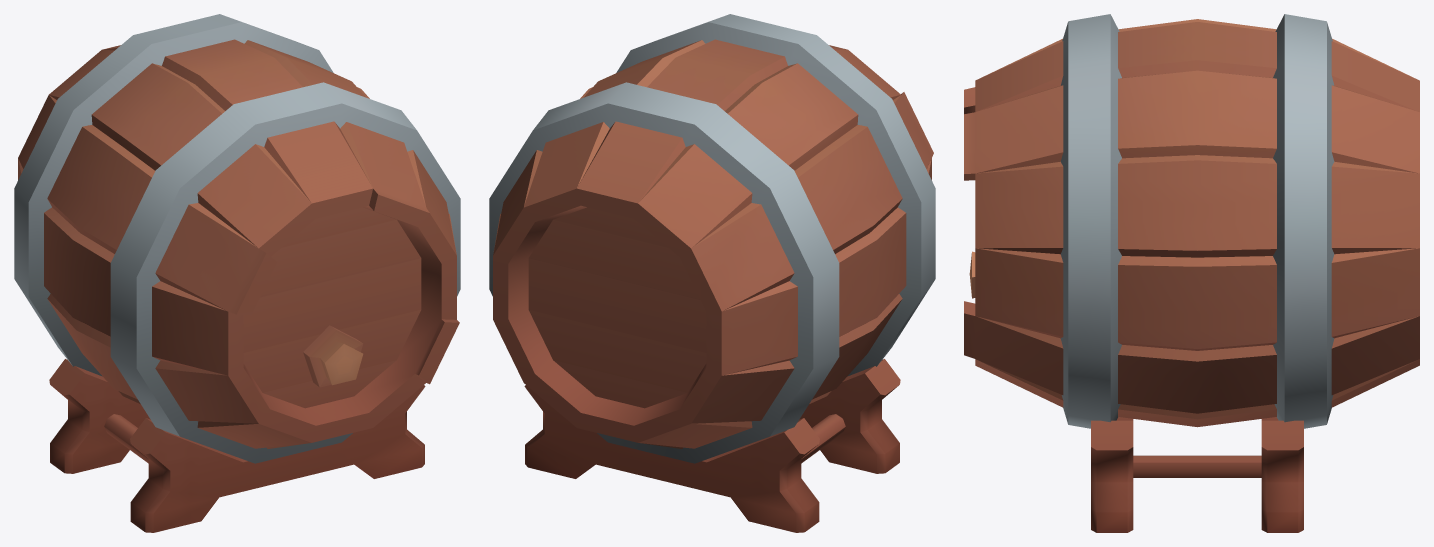
The model's file is d_kaykit_barrique.glb.
3 views of the same model, side by side, from view 1: azimuth 30°, elevation 25°; view 2: azimuth 150°, elevation 25°; view 3: azimuth 270°, elevation 25° (orthographic). The views are drawn at different scales.
Visible parts, largest first — view 1: d_kaykit_barrique; view 2: d_kaykit_barrique; view 3: d_kaykit_barrique.
Boxes of the visible parts, x1=… form: d_kaykit_barrique: x1=14, y1=14, x2=460, y2=532; d_kaykit_barrique: x1=489, y1=14, x2=935, y2=532; d_kaykit_barrique: x1=964, y1=14, x2=1419, y2=532.
Size of the model in its own units: 1.8 by 2.05 by 2.
Materials: 1 (1 with a texture image).
